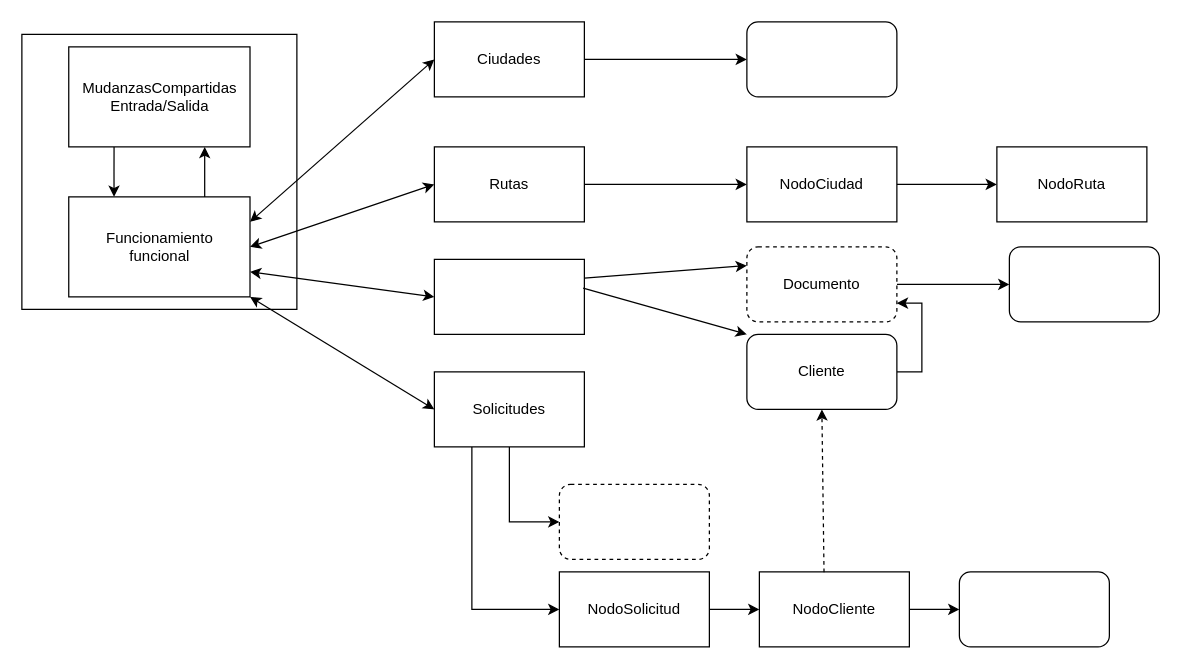
Image size: 1181x669. Some labels were removed from this diagram. Each missing label, with the centre of its shape:
Ciudad: [821,59]
CiudadesDeViaje: [633,521]
Clientes: [508,296]
Descripcion: [1033,609]
TipoDocumento: [1083,284]
